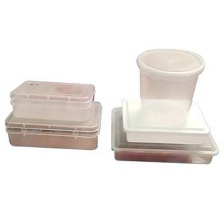plastic_box: (104, 93, 224, 168), (0, 97, 105, 155), (130, 42, 209, 106), (5, 75, 99, 127)
